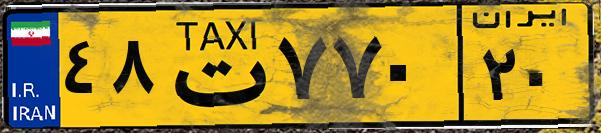0: (385, 28, 445, 110), (525, 38, 570, 115)
2: (475, 38, 525, 113)
4: (57, 26, 110, 100)
7: (270, 28, 330, 110), (330, 28, 385, 110)
8: (110, 28, 158, 98)
ت: (158, 12, 270, 120)
